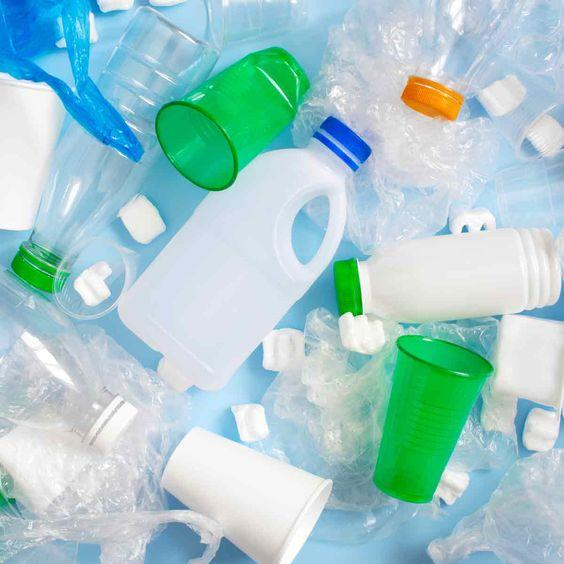HDPE: (358, 226, 564, 322), (0, 71, 65, 234), (77, 393, 141, 457), (311, 113, 374, 175), (399, 74, 464, 126), (9, 245, 69, 297), (331, 253, 364, 318)
LDPE: (256, 307, 514, 544), (294, 0, 506, 254), (0, 324, 223, 564), (0, 0, 150, 162), (425, 447, 564, 564)
PETE: (32, 6, 219, 264), (0, 261, 114, 432), (410, 0, 526, 99)
PP: (159, 425, 334, 564), (155, 44, 311, 193), (372, 331, 494, 508), (467, 54, 564, 162), (52, 238, 144, 320)
